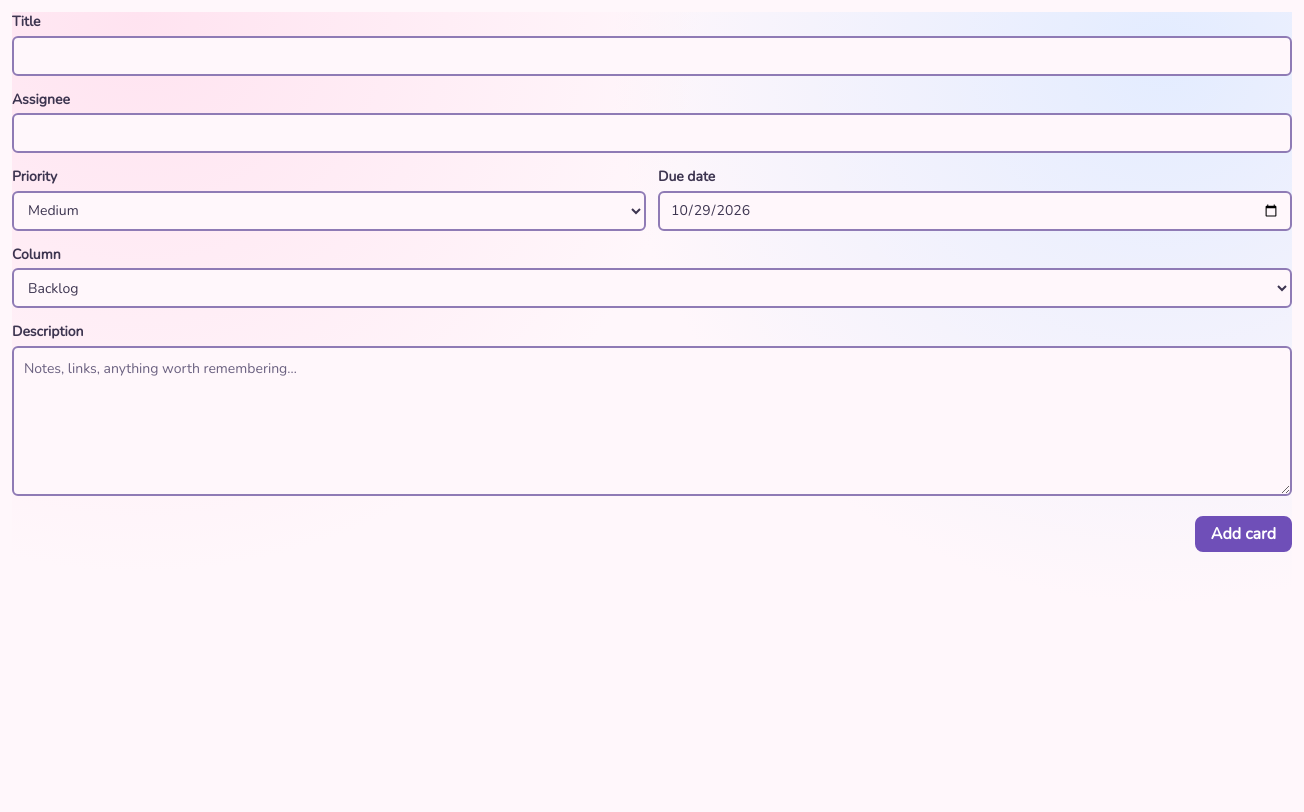
Test: CardForm validation › explains what is missing, announces it, and sends focus to the first problem
Click the button "Add card" at (1243,534), box [1195,516,1292,552]
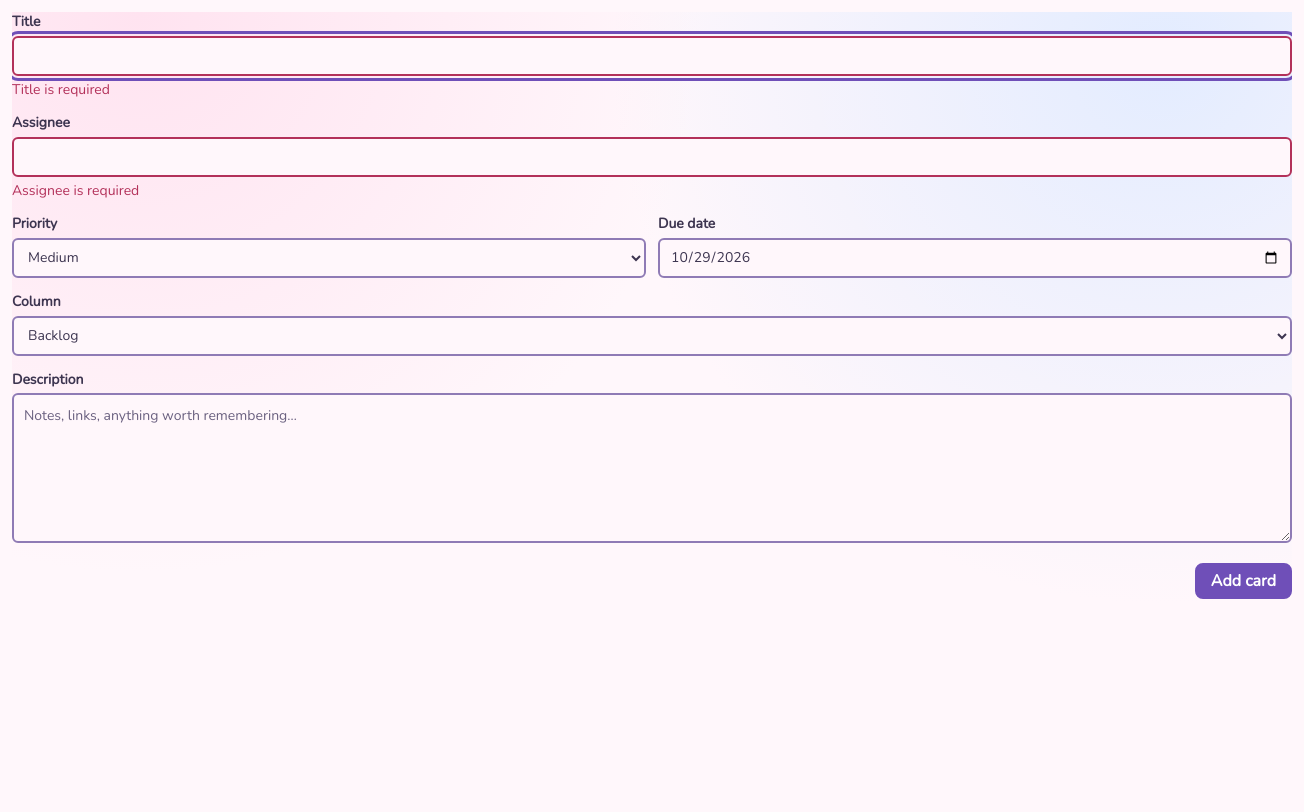
Now the messages read "Title is required", "Assignee is required", in this order, box [12,80,110,99]; [12,181,139,200]
